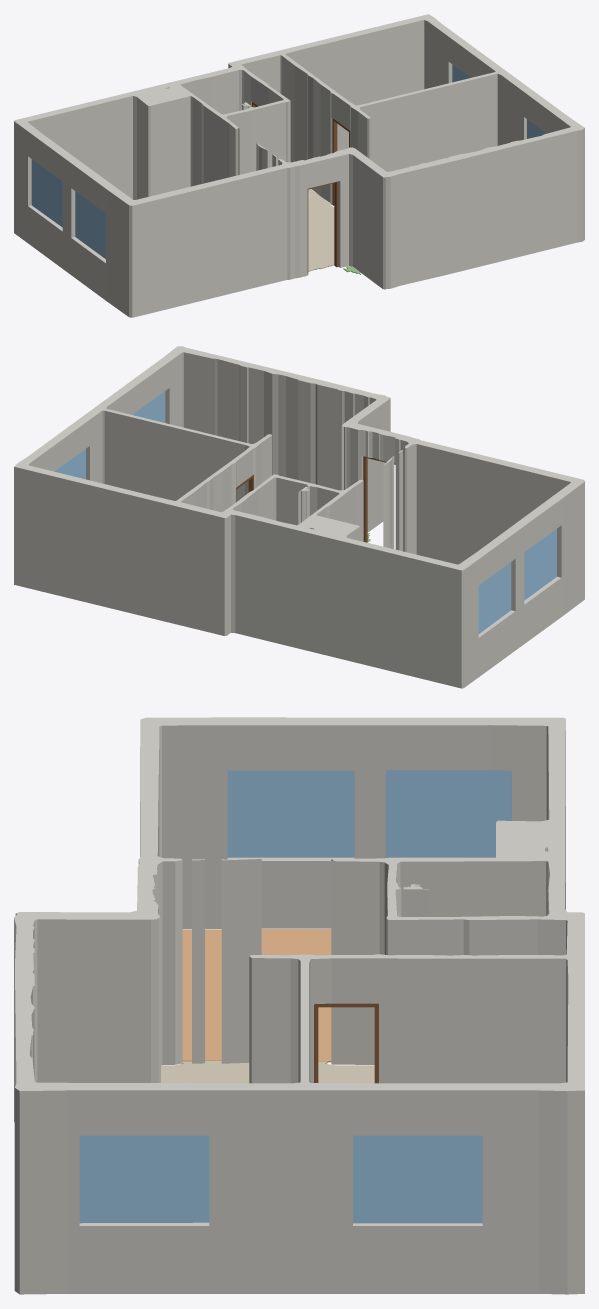
3 views of the same model, one above another, from view 1: azimuth 30°, elevation 25°; view 2: azimuth 150°, elevation 25°; view 3: azimuth 270°, elevation 25° (orthographic). The views are drawn at different scales.
Parts seen in each view (by area): view 1: walls, floor_5_Entry, window_3, window_5, door_2; view 2: walls, window_3, window_5, window_6, window_4, door_2; view 3: walls, window_4, window_6, window_5, window_3, floor_2_Living_Room, floor_5_Entry, door_1.
Boxes of the visible parts, x1=… form: walls: x1=14, y1=14, x2=584, y2=317; floor_5_Entry: x1=308, y1=189, x2=334, y2=271; window_3: x1=31, y1=159, x2=62, y2=227; window_5: x1=75, y1=191, x2=105, y2=258; door_2: x1=307, y1=181, x2=338, y2=274; walls: x1=14, y1=346, x2=584, y2=688; window_3: x1=478, y1=562, x2=511, y2=633; window_5: x1=524, y1=529, x2=556, y2=600; window_6: x1=132, y1=391, x2=165, y2=422; window_4: x1=55, y1=449, x2=85, y2=479; door_2: x1=363, y1=456, x2=395, y2=542; walls: x1=14, y1=717, x2=584, y2=1294; window_4: x1=353, y1=1135, x2=482, y2=1223; window_6: x1=79, y1=1135, x2=209, y2=1223; window_5: x1=227, y1=770, x2=354, y2=857; window_3: x1=385, y1=770, x2=511, y2=857; floor_2_Living_Room: x1=182, y1=929, x2=331, y2=1062; floor_5_Entry: x1=161, y1=1061, x2=374, y2=1083; door_1: x1=314, y1=1003, x2=378, y2=1083.
Bounding box in the file's own units: 10.64 × 2.72 × 6.87.
